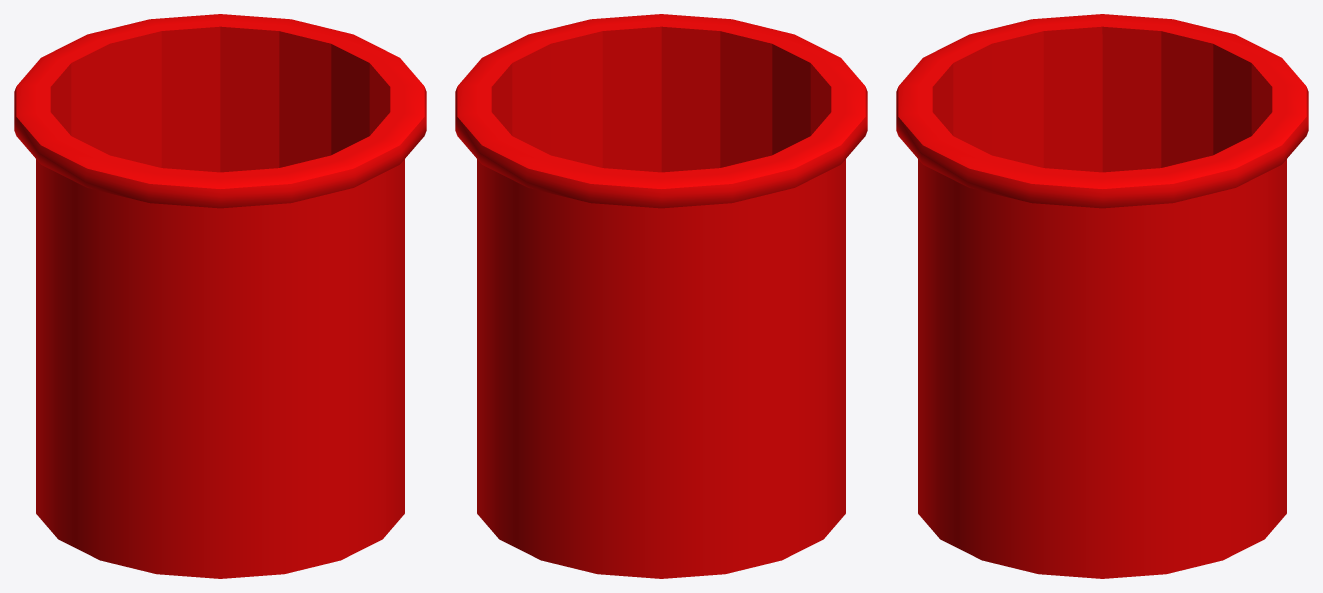
File: LabProp08.fbx
The picture shows the model from 3 angles, left to right: view 1: azimuth 30°, elevation 25°; view 2: azimuth 150°, elevation 25°; view 3: azimuth 270°, elevation 25°; orthographic projection.
Parts seen in each view (by area): view 1: LabProp08; view 2: LabProp08; view 3: LabProp08.
Part boxes in pixels (<box>): LabProp08: <box>14,14,426,578</box>; LabProp08: <box>455,14,867,578</box>; LabProp08: <box>896,14,1308,578</box>.
Bounding box in the file's own units: 28.44 × 29.98 × 28.01.
